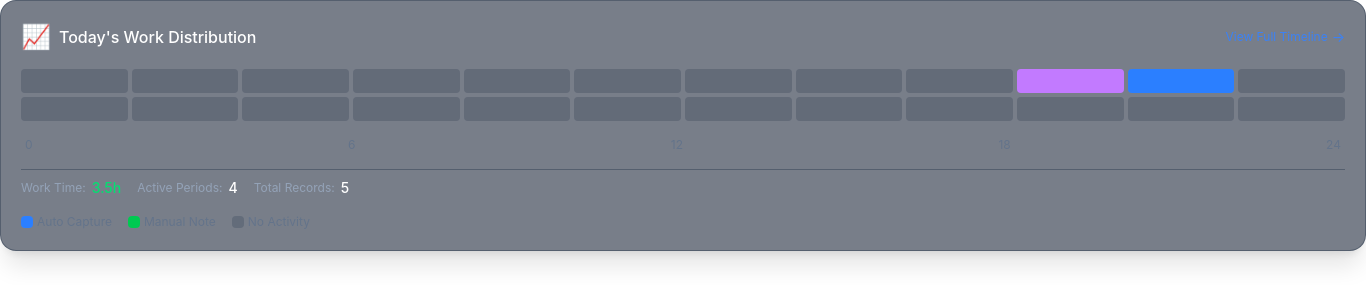
TimelineWidget › hour interaction › shows tooltip on hover
# Hover over hour 9 (has events)
Hover over the element named "09:00 - 10:00: 1 auto, 1 manual": point(1070, 81) [1017,69,1124,93]
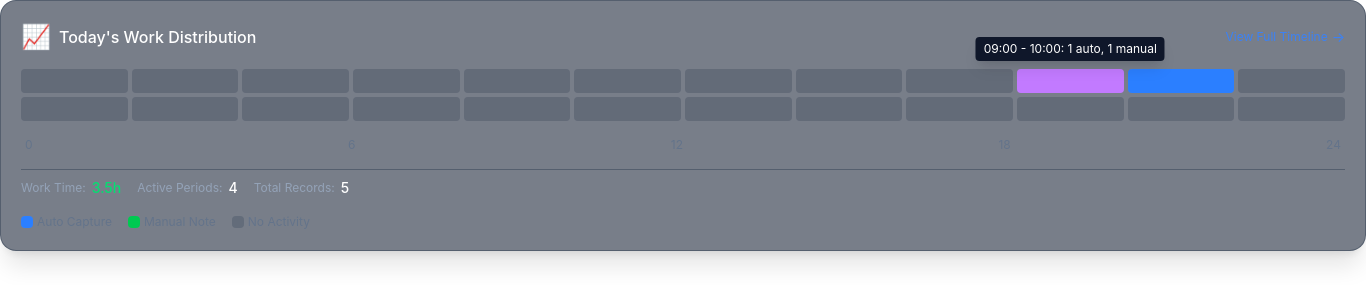
Expected: the text "09:00 - 10:00" is shown, [984,41,1157,56]
